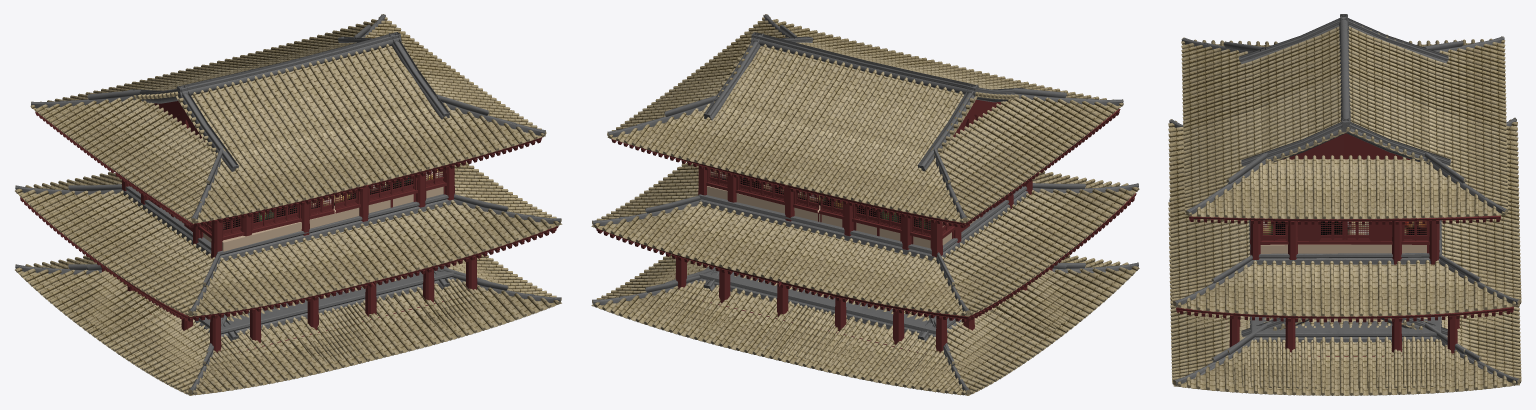
3 views of the same model, side by side, from view 1: azimuth 30°, elevation 25°; view 2: azimuth 150°, elevation 25°; view 3: azimuth 270°, elevation 25° (orthographic).
Parts seen in each view (by area): view 1: Cylinder342.001, Cylinder342.002, Shape25.001, Object50.001, Cylinder342.004, Shape25.002, Line27.001, Object52.035, Line440.001, Object52.123, Shape25.003; view 2: Cylinder342.001, Cylinder342.002, Shape25.001, Object50.001, Cylinder342.004, Shape25.002, Line27.001, Object52.035, Line440.001, Object52.123, Shape25.003; view 3: Cylinder342.001, Cylinder342.002, Shape25.001, Object50.001, Cylinder342.004, Shape25.002, Line27.001, Shape25.003, Object52.123, Line440.001.
Part boxes in pixels (left/top/right/bottom): Cylinder342.001: left=15, top=14, right=562, bottom=316; Cylinder342.002: left=15, top=254, right=561, bottom=395; Shape25.001: left=15, top=14, right=561, bottom=315; Object50.001: left=20, top=101, right=558, bottom=321; Cylinder342.004: left=71, top=260, right=504, bottom=375; Shape25.002: left=15, top=264, right=561, bottom=394; Line27.001: left=131, top=186, right=443, bottom=251; Object52.035: left=250, top=268, right=434, bottom=342; Line440.001: left=209, top=169, right=442, bottom=230; Object52.123: left=101, top=256, right=477, bottom=352; Shape25.003: left=48, top=264, right=488, bottom=370; Cylinder342.001: left=591, top=14, right=1139, bottom=316; Cylinder342.002: left=591, top=254, right=1139, bottom=395; Shape25.001: left=592, top=14, right=1138, bottom=315; Object50.001: left=596, top=99, right=1136, bottom=322; Cylinder342.004: left=647, top=261, right=1083, bottom=375; Shape25.002: left=592, top=262, right=1138, bottom=394; Line27.001: left=707, top=186, right=986, bottom=248; Object52.035: left=719, top=268, right=904, bottom=344; Line440.001: left=710, top=169, right=943, bottom=230; Object52.123: left=675, top=256, right=1052, bottom=352; Shape25.003: left=665, top=263, right=1105, bottom=370; Cylinder342.001: left=1168, top=23, right=1521, bottom=316; Cylinder342.002: left=1168, top=202, right=1521, bottom=395; Shape25.001: left=1169, top=14, right=1518, bottom=306; Object50.001: left=1176, top=133, right=1513, bottom=322; Cylinder342.004: left=1183, top=312, right=1506, bottom=388; Shape25.002: left=1169, top=199, right=1518, bottom=385; Line27.001: left=1260, top=244, right=1426, bottom=253; Shape25.003: left=1193, top=317, right=1499, bottom=378; Object52.123: left=1229, top=315, right=1457, bottom=353; Line440.001: left=1263, top=220, right=1426, bottom=234.
Bounding box in the file's own units: 23.87 × 14.24 × 19.22.
7 materials, 5 textured.
